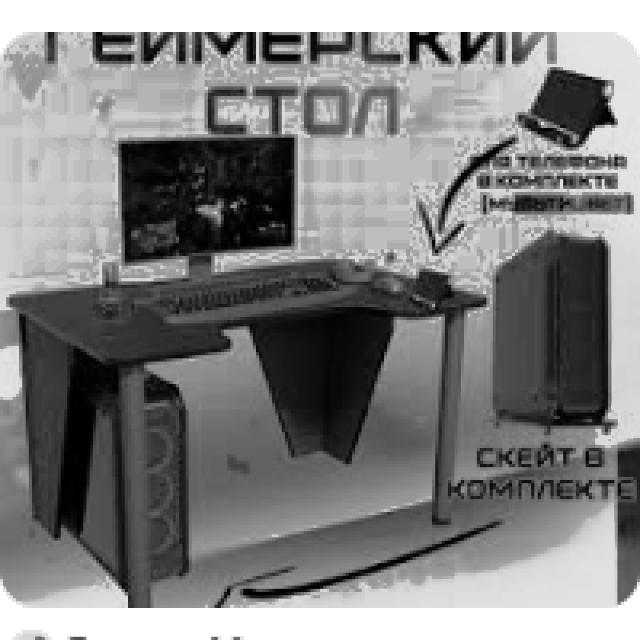table: (6, 256, 496, 605)
